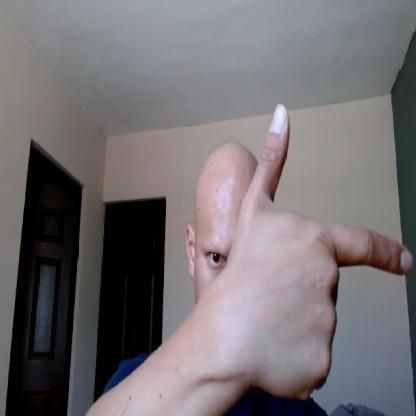G: (229, 104, 414, 396)
